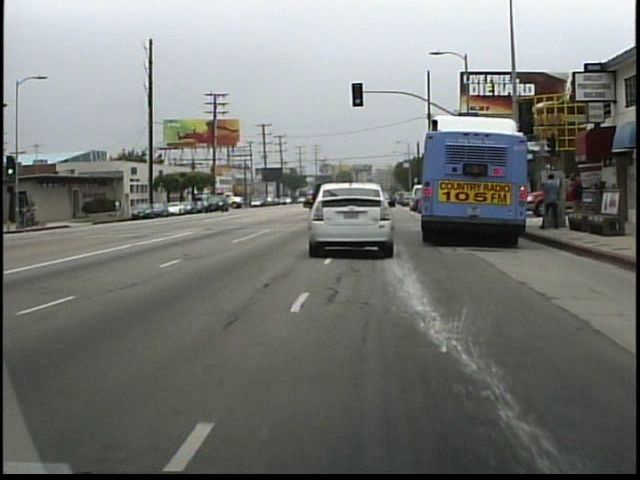person: (536, 169, 561, 234), (111, 195, 123, 218)
